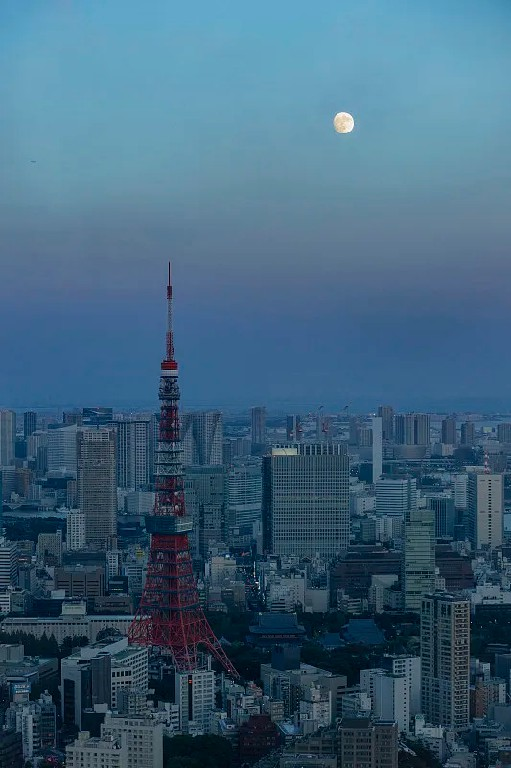Tokyo: (128, 251, 245, 679)
